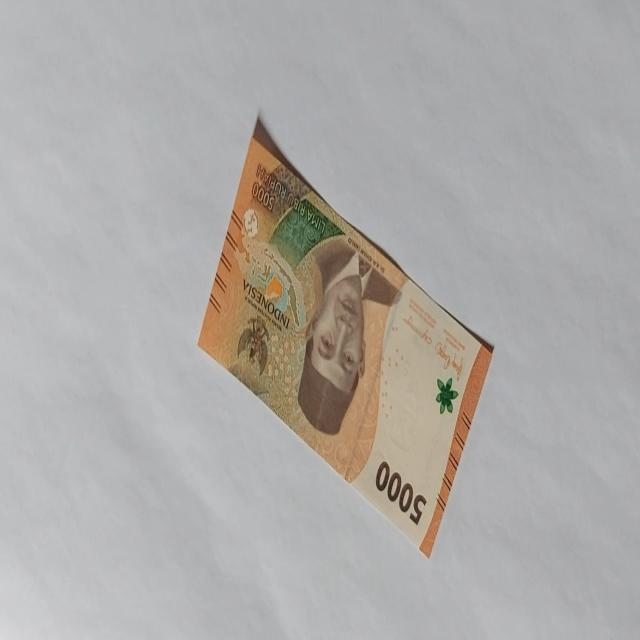lima ribu rupiah: (196, 114, 494, 558)
